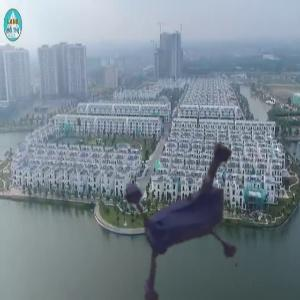drone: (92, 100, 284, 292)
